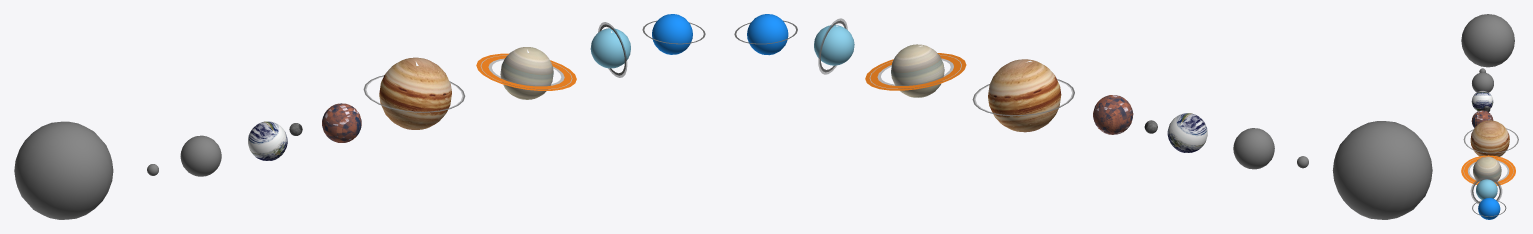
File: solar.gltf
3 renders of one model, left to right at view 1: azimuth 30°, elevation 25°; view 2: azimuth 150°, elevation 25°; view 3: azimuth 270°, elevation 25°, orthographic. The views are drawn at different scales.
Visible parts, largest first — view 1: root, object 2; view 2: root, object 2; view 3: root, object 2.
Part boxes in pixels (x1,y1,x2,y2): root: [14, 14, 705, 219]; object 2: [476, 53, 576, 90]; root: [734, 14, 1432, 219]; object 2: [865, 53, 966, 90]; root: [1461, 14, 1518, 219]; object 2: [1461, 155, 1515, 185].
Bounding box in the file's own units: 67.79 × 8.54 × 9.2.
11 materials, 5 textured.
